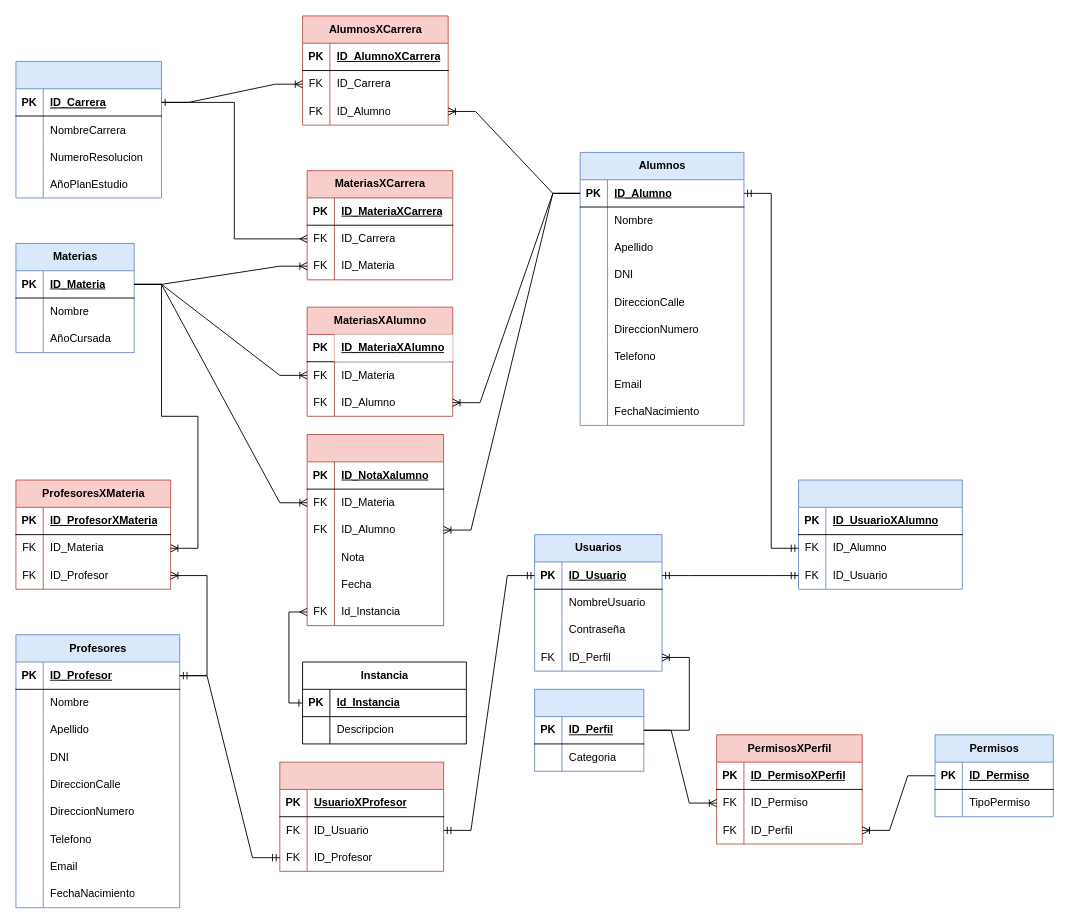
The diagram is 1069 pixels wide and 924 high, and some of its shapes have lost their labels. Each missing label, with the box of its shape:
Carreras: (15, 61, 162, 198)
NotasXAlumnos: (306, 434, 444, 626)
Perfiles: (534, 688, 644, 771)
UsuariosXAlumnos: (798, 479, 962, 589)
UsuariosXProfesores: (279, 761, 444, 871)
